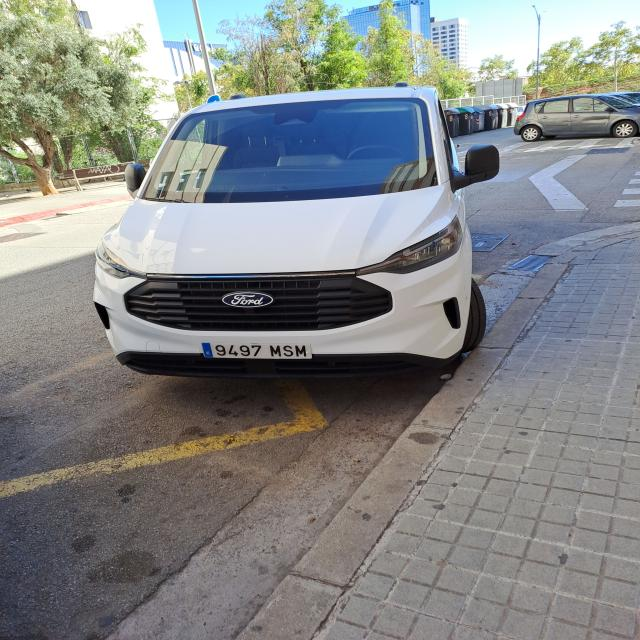license_plate-34Td: (202, 343, 312, 359)
